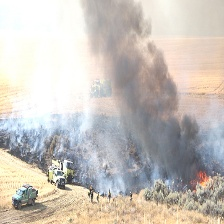fire: (189, 170, 214, 192)
smoke: (1, 2, 224, 173)
